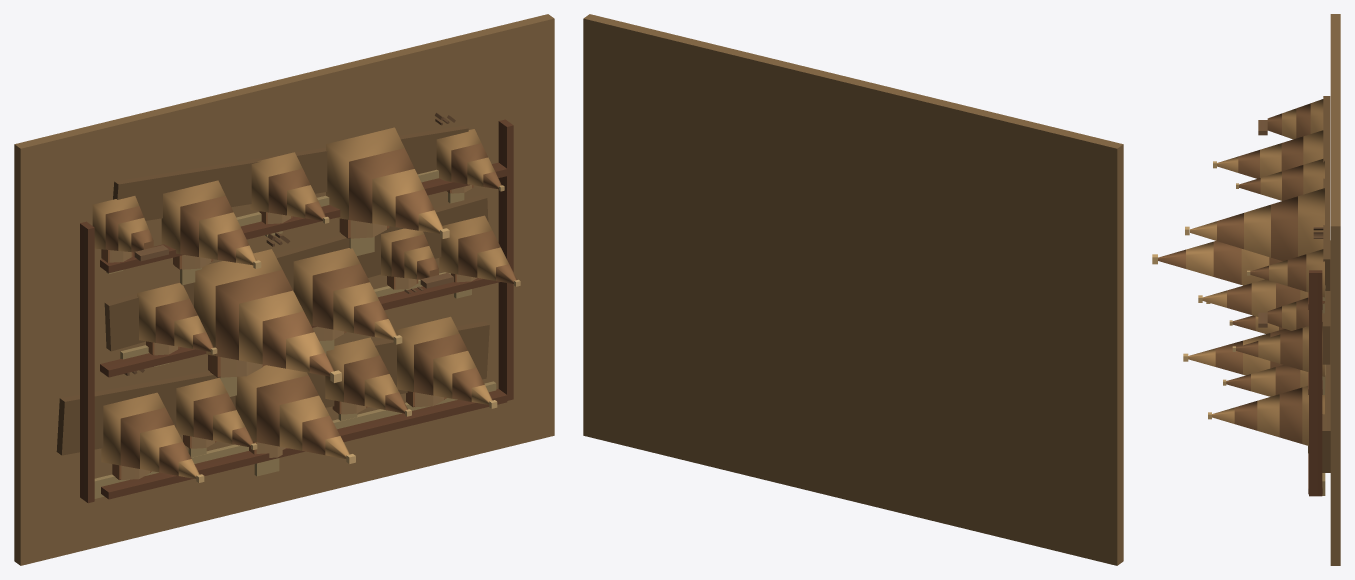
Rendered from meroe-pyramids.glb.
The picture shows the model from 3 angles, left to right: view 1: azimuth 30°, elevation 25°; view 2: azimuth 150°, elevation 25°; view 3: azimuth 270°, elevation 25°; orthographic projection. The views are drawn at different scales.
Visible parts, largest first — view 1: part-desert, part-stone, part-stoneShade, part-desertShade, part-chapelDark, part-path, part-chapelLight, part-chapel, part-rubble, part-stoneLight; view 2: part-desert; view 3: part-stone, part-stoneShade, part-desert, part-chapelDark, part-desertShade, part-rubble, part-stoneLight.
Boxes of the visible parts, x1,y1,x2,y2 form: part-desert: [14, 14, 554, 565]; part-stone: [92, 127, 508, 478]; part-stoneShade: [105, 143, 516, 475]; part-desertShade: [56, 125, 489, 455]; part-chapelDark: [80, 119, 513, 503]; part-path: [94, 169, 496, 498]; part-chapelLight: [109, 185, 476, 479]; part-chapel: [101, 185, 473, 479]; part-rubble: [124, 113, 455, 375]; part-stoneLight: [196, 185, 520, 482]; part-desert: [583, 14, 1123, 565]; part-stone: [1186, 99, 1324, 445]; part-stoneShade: [1158, 103, 1310, 443]; part-desert: [1330, 14, 1340, 565]; part-chapelDark: [1308, 270, 1323, 496]; part-desertShade: [1322, 96, 1330, 472]; part-rubble: [1258, 120, 1323, 327]; part-stoneLight: [1152, 161, 1250, 419].
Bounding box in the file's own units: 1.58 × 1.18 × 0.5936.
